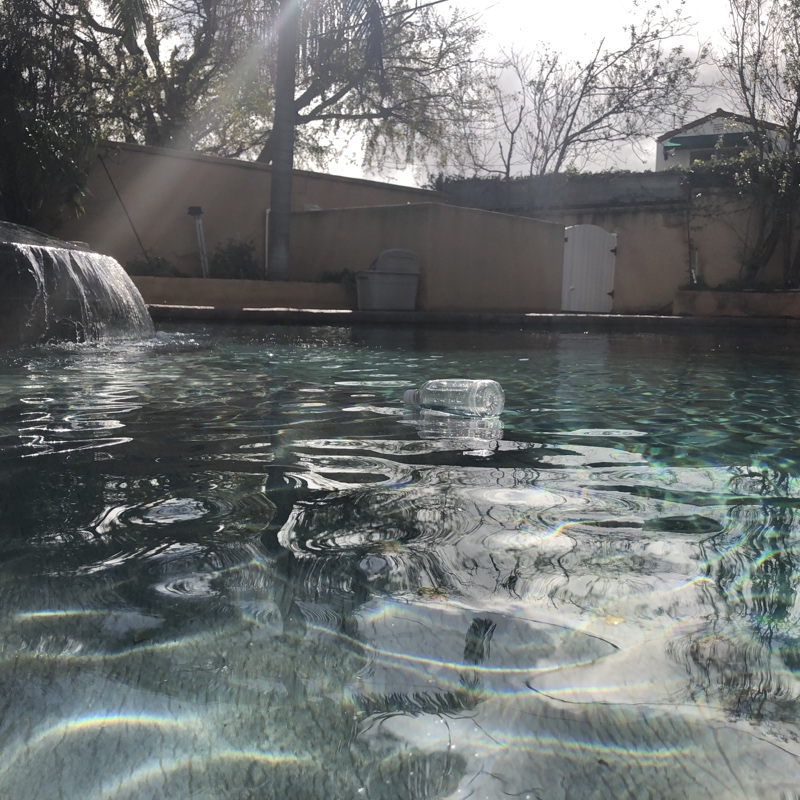Plastic Bottle: (399, 372, 507, 427)
